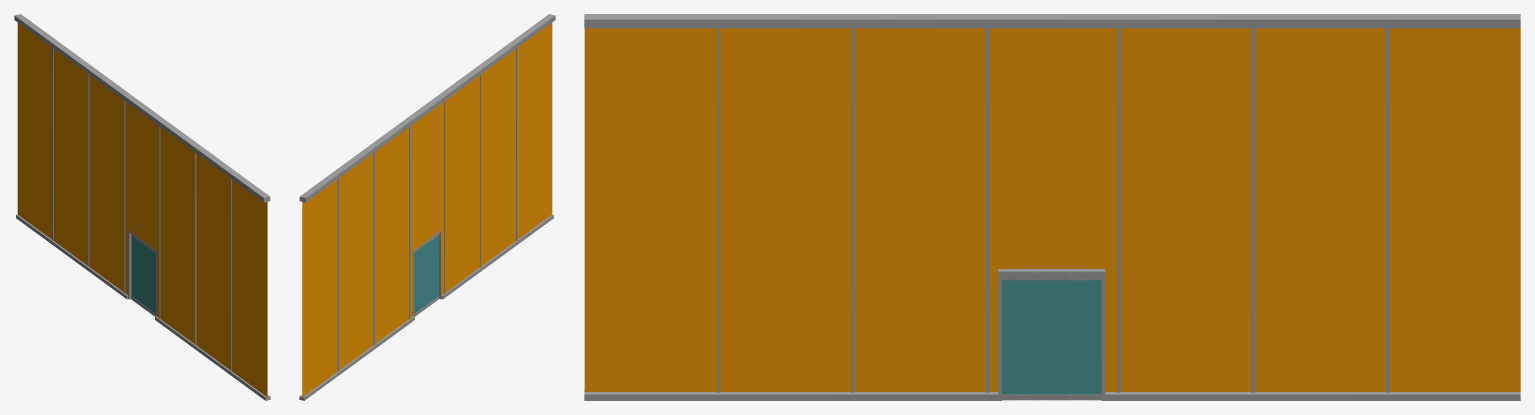
The model's file is GlassWall2.fbx.
The picture shows the model from 3 angles, left to right: view 1: azimuth 30°, elevation 25°; view 2: azimuth 150°, elevation 25°; view 3: azimuth 270°, elevation 25°; orthographic projection. The views are drawn at different scales.
Parts seen in each view (by area): view 1: GlassWall2, D2, D1; view 2: GlassWall2, D1, D2; view 3: GlassWall2, D2, D1.
Boxes of the visible parts, x1,y1,x2,y2 form: GlassWall2: [14, 14, 270, 400]; D2: [131, 235, 144, 305]; D1: [144, 245, 155, 313]; GlassWall2: [299, 14, 555, 400]; D1: [425, 235, 438, 305]; D2: [414, 245, 425, 313]; GlassWall2: [584, 14, 1520, 400]; D2: [1051, 280, 1101, 394]; D1: [1002, 280, 1051, 394].
Size of the model in its own units: 23.47 by 708 by 1577.
